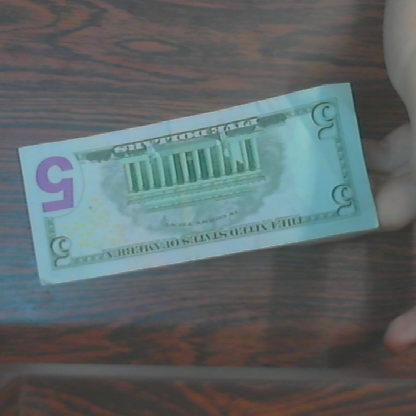five-back: (12, 86, 381, 292)
